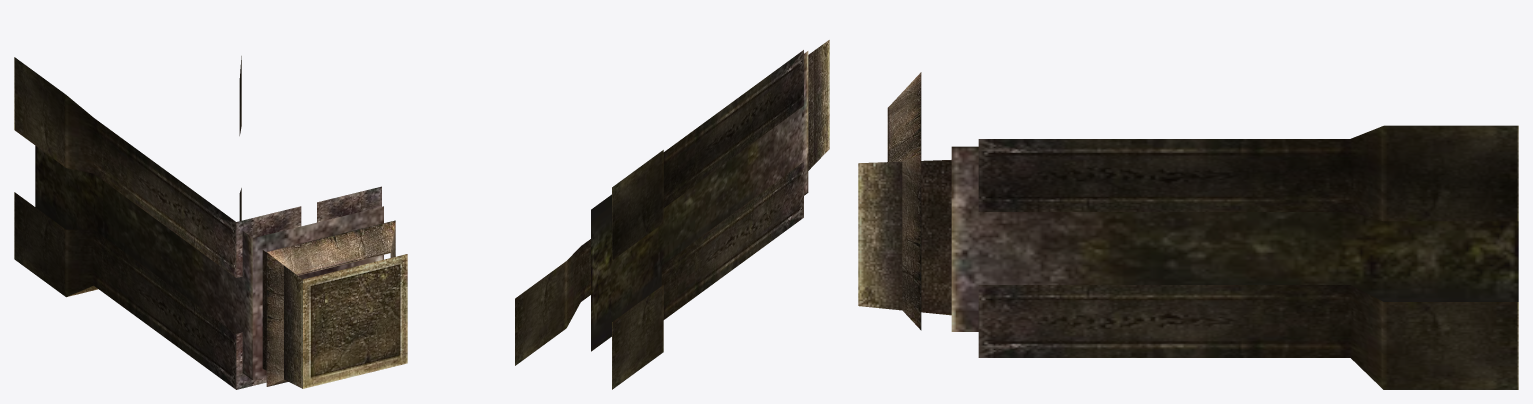
The picture shows the model from 3 angles, left to right: view 1: azimuth 30°, elevation 25°; view 2: azimuth 150°, elevation 25°; view 3: azimuth 270°, elevation 25°; orthographic projection. The views are drawn at different scales.
Parts seen in each view (by area): view 1: model_Object79; view 2: model_Object79; view 3: model_Object79.
Part boxes in pixels (box(x1,y1,x2,y2)): model_Object79: box(14, 56, 407, 389); model_Object79: box(515, 40, 829, 389); model_Object79: box(858, 72, 1518, 389).
Bounding box in the file's own units: 1.07 × 1.18 × 2.66.
1 material, 1 textured.
